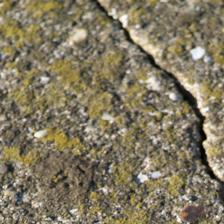Crack: (48, 2, 173, 182)
